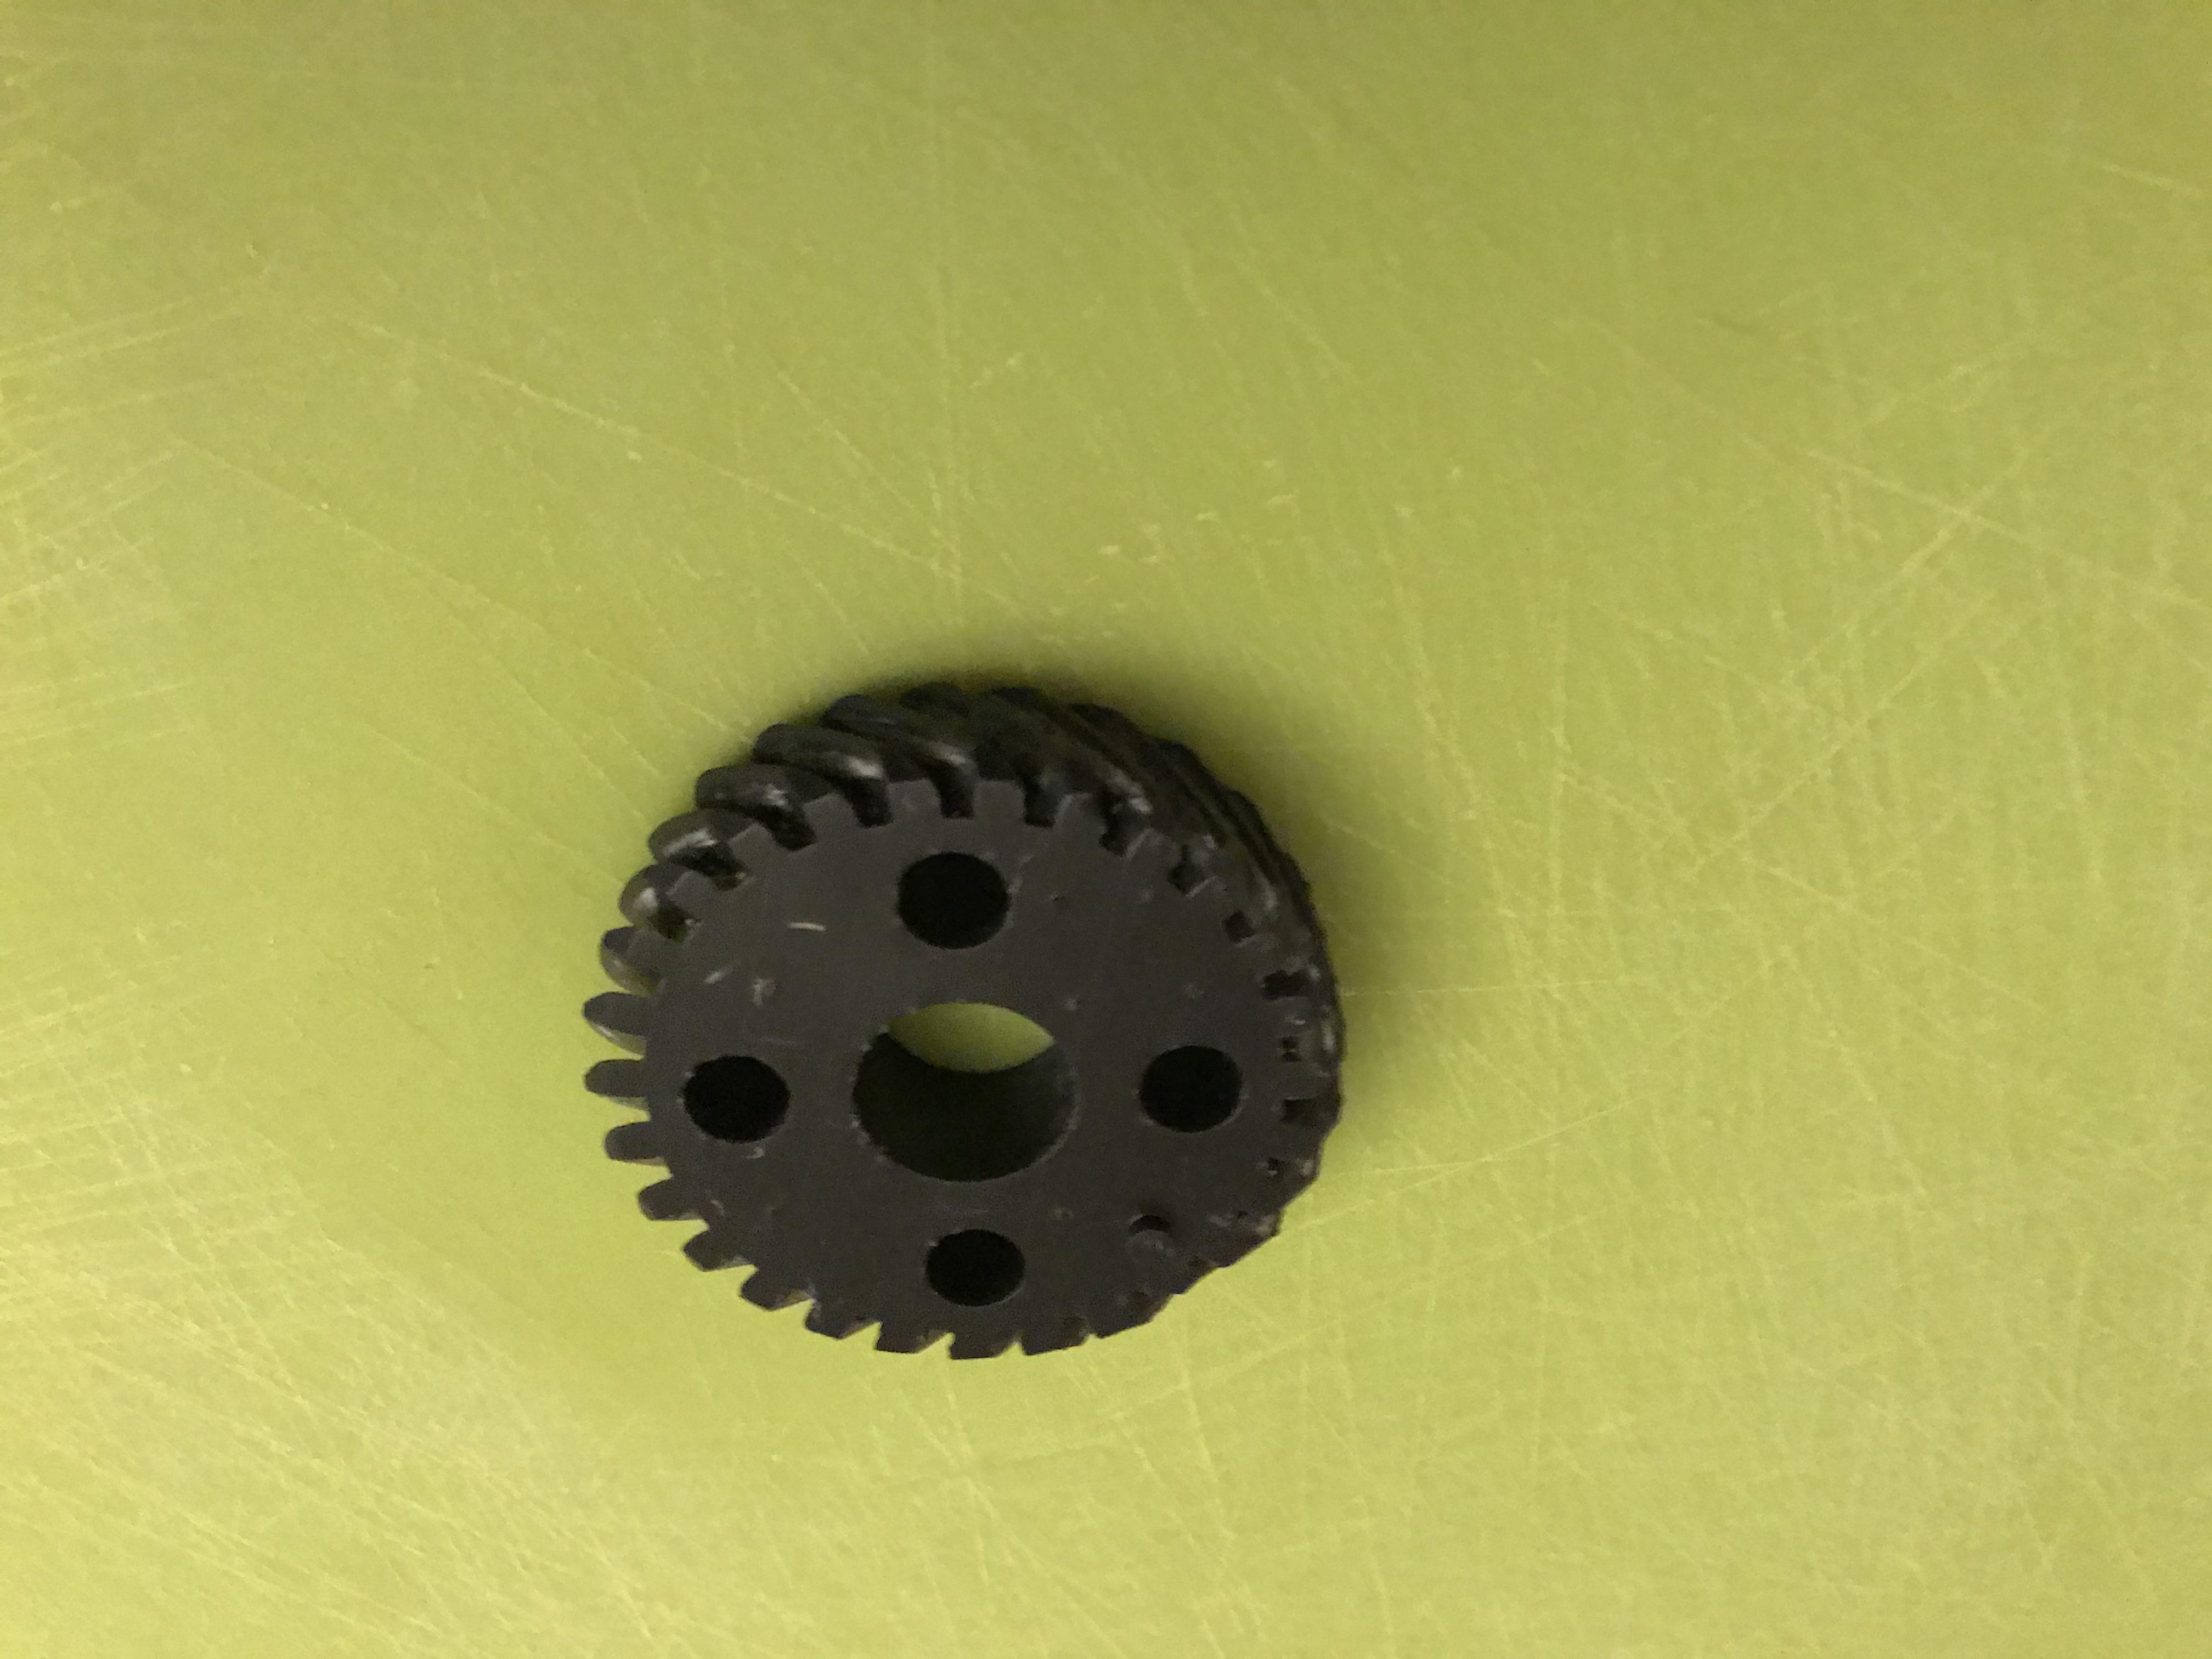Wheel: (577, 666, 1359, 1363)
